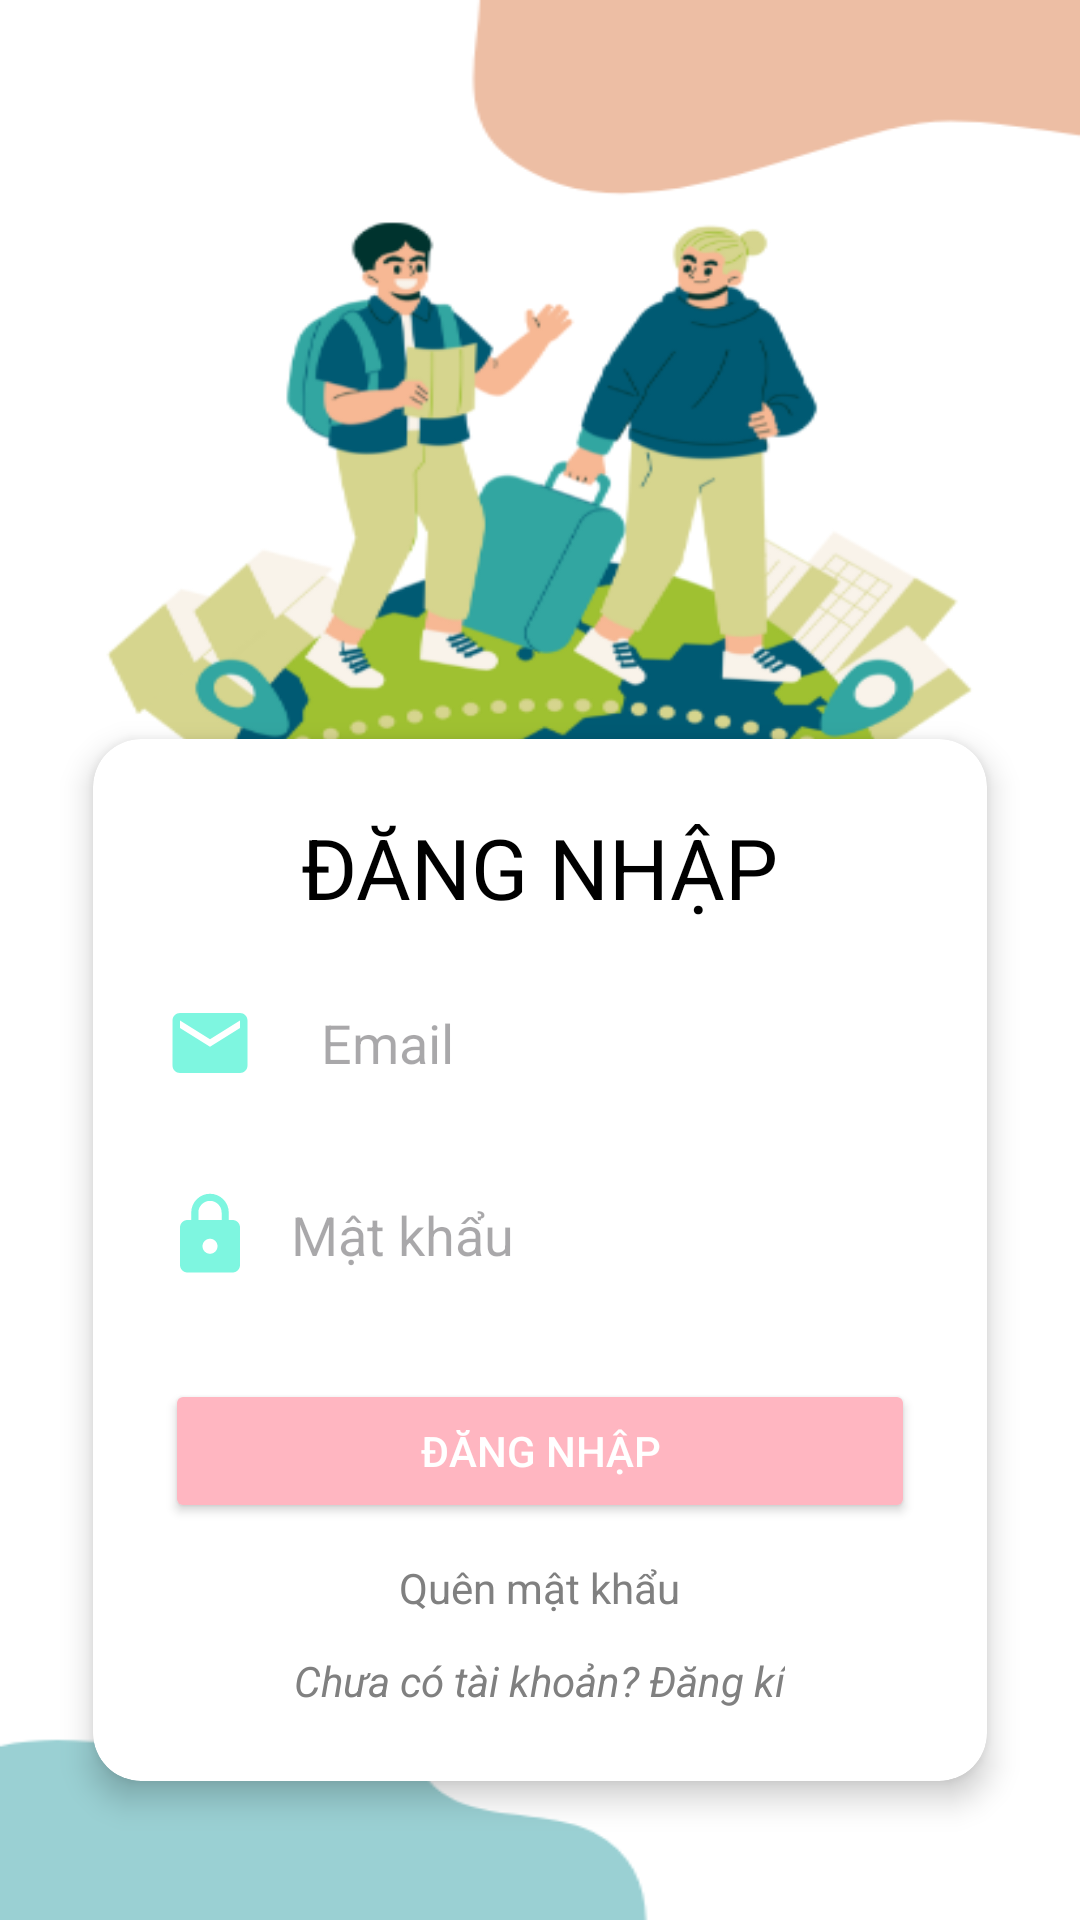

Icon bounding boxes for this 1080x1920 phone screenshot, format {"x1": x1, "y1": y1, "x2": x2, "y2": y2}:
pass: {"x1": 180, "y1": 1193, "x2": 240, "y2": 1273}
